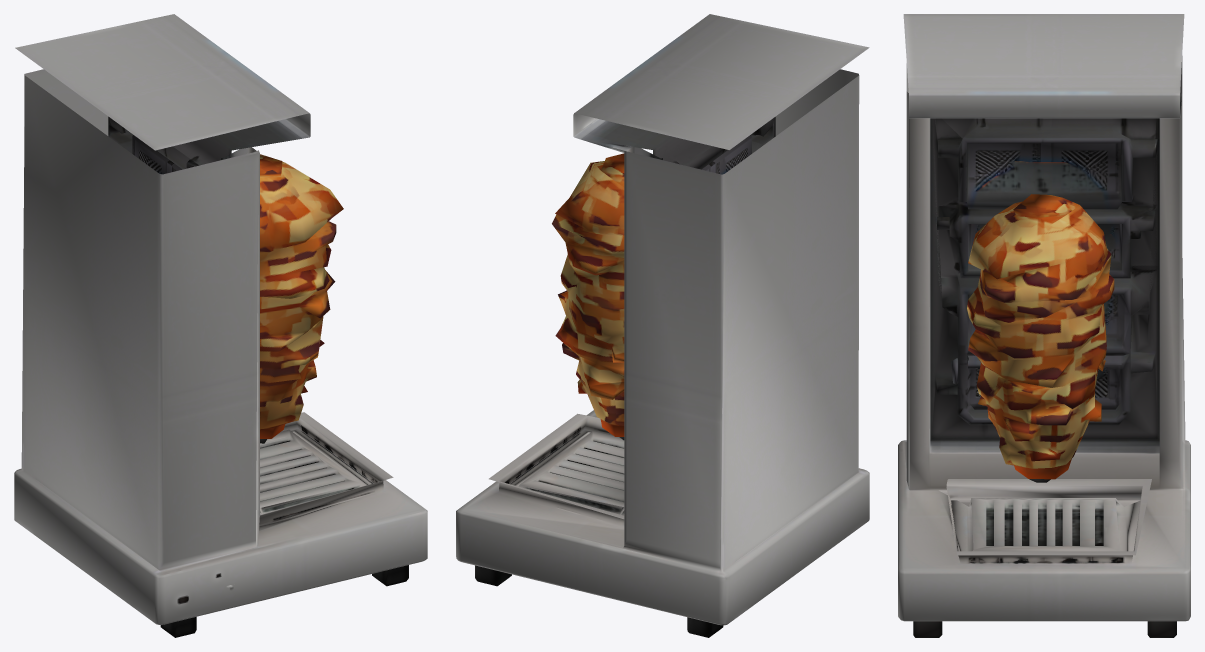
File: asador.glb
The picture shows the model from 3 angles, left to right: view 1: azimuth 30°, elevation 25°; view 2: azimuth 150°, elevation 25°; view 3: azimuth 270°, elevation 25°; orthographic projection.
Visible parts, largest first — view 1: tripo_node_3847926f-34d3-47ff-8337-ef8935bcbe34; view 2: tripo_node_3847926f-34d3-47ff-8337-ef8935bcbe34; view 3: tripo_node_3847926f-34d3-47ff-8337-ef8935bcbe34.
Boxes of the visible parts, x1,y1,x2,y2 form: tripo_node_3847926f-34d3-47ff-8337-ef8935bcbe34: [14, 14, 427, 637]; tripo_node_3847926f-34d3-47ff-8337-ef8935bcbe34: [456, 14, 869, 637]; tripo_node_3847926f-34d3-47ff-8337-ef8935bcbe34: [898, 14, 1190, 637].
Size of the model in its own units: 0.5734 by 1 by 0.5323.
Materials: 1 (1 with a texture image).
